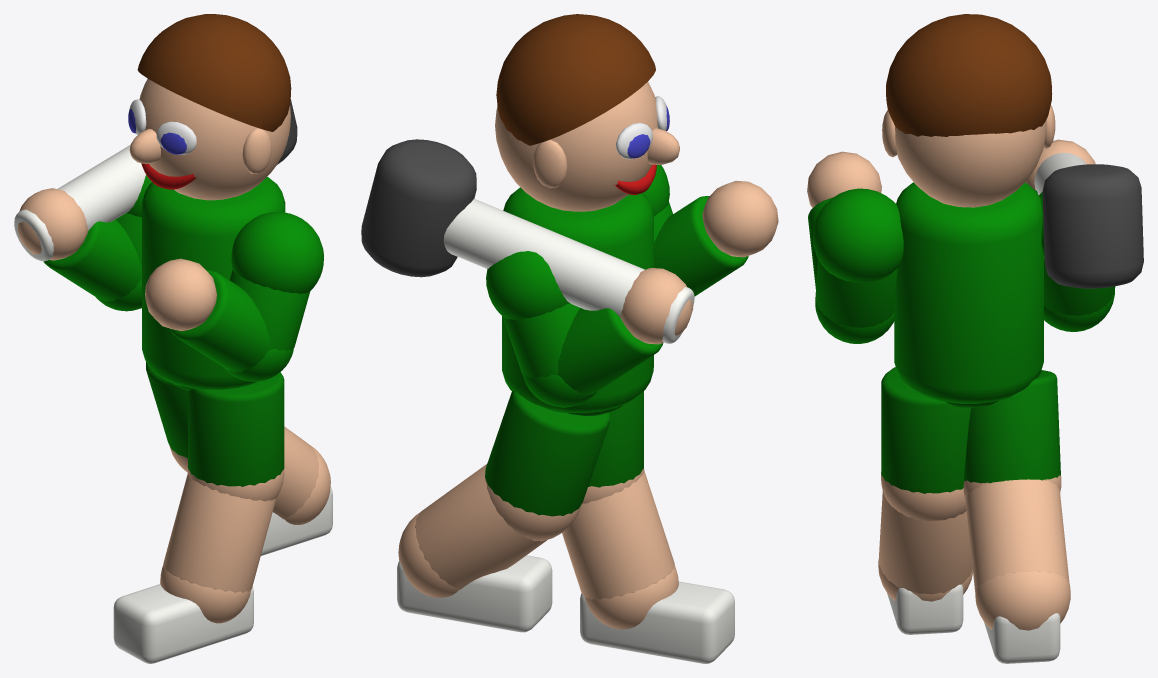
3 renders of one model, left to right at view 1: azimuth 30°, elevation 25°; view 2: azimuth 150°, elevation 25°; view 3: azimuth 270°, elevation 25°, orthographic. The views are drawn at different scales.
Visible parts, largest first — view 1: torso, hair, thigh_n, shin_n, head, shoe_n, shoulder_ball_n, farm_n, handle, farm_f, hand_n, hand_f (+14 smaller); view 2: hair, mallet, thigh_f, handle, head, shin_n, torso, shin_f, shoe_n, shoe_f, farm_f, farm_n (+14 smaller); view 3: torso, hair, mallet, shin_f, head, thigh_n, thigh_f, shoulder_ball_n, shin_n, ankle_ball_f, uarm_n, shoe_f (+10 smaller).
Part boxes in pixels (left/top/right/bottom): torso: left=142, top=176, right=285, bottom=389; hair: left=137, top=14, right=291, bottom=131; thigh_n: left=188, top=372, right=284, bottom=486; shin_n: left=163, top=473, right=276, bottom=592; head: left=139, top=79, right=290, bottom=200; shoe_n: left=113, top=584, right=253, bottom=663; shoulder_ball_n: left=231, top=212, right=323, bottom=293; farm_n: left=169, top=270, right=270, bottom=371; handle: left=14, top=145, right=145, bottom=261; farm_f: left=43, top=219, right=141, bottom=301; hand_n: left=145, top=258, right=216, bottom=331; hand_f: left=17, top=188, right=87, bottom=260; hair: left=496, top=14, right=655, bottom=145; mallet: left=361, top=139, right=476, bottom=277; thigh_f: left=485, top=391, right=610, bottom=516; handle: left=443, top=199, right=694, bottom=343; head: left=495, top=82, right=657, bottom=211; shin_n: left=562, top=471, right=674, bottom=599; torso: left=502, top=187, right=653, bottom=413; shin_f: left=415, top=464, right=546, bottom=589; shoe_n: left=580, top=581, right=734, bottom=663; shoe_f: left=397, top=555, right=552, bottom=632; farm_f: left=557, top=308, right=663, bottom=395; farm_n: left=654, top=196, right=748, bottom=296; torso: left=894, top=182, right=1043, bottom=403; hair: left=886, top=14, right=1052, bottom=136; mallet: left=1042, top=164, right=1143, bottom=288; shin_f: left=965, top=479, right=1069, bottom=592; head: left=895, top=119, right=1046, bottom=207; thigh_n: left=881, top=367, right=970, bottom=493; thigh_f: left=964, top=370, right=1060, bottom=483; shoulder_ball_n: left=813, top=188, right=903, bottom=282; shin_n: left=879, top=490, right=972, bottom=594; ankle_ball_f: left=975, top=570, right=1070, bottom=630; uarm_n: left=815, top=259, right=897, bottom=327; shoe_f: left=984, top=613, right=1060, bottom=663.
Size of the model in its own units: 0.8141 by 1.61 by 0.8032.
